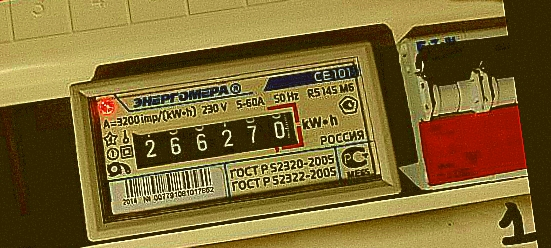0: (271, 118, 286, 139)
2: (141, 137, 159, 159), (218, 126, 235, 148)
6: (167, 133, 183, 156), (194, 131, 209, 152)
7: (244, 123, 259, 143)
screen: (121, 98, 310, 176)
